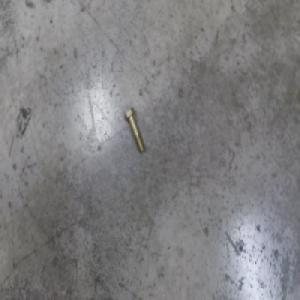Bolt: (124, 106, 145, 153)
